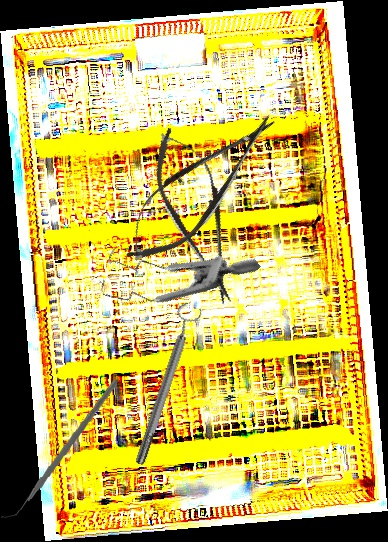Chopper: (0, 369, 118, 529)
Fixation Ring: (125, 301, 206, 468)
Micro Scissor: (106, 95, 294, 280), (140, 119, 255, 313)
Speculum: (85, 185, 261, 352)
